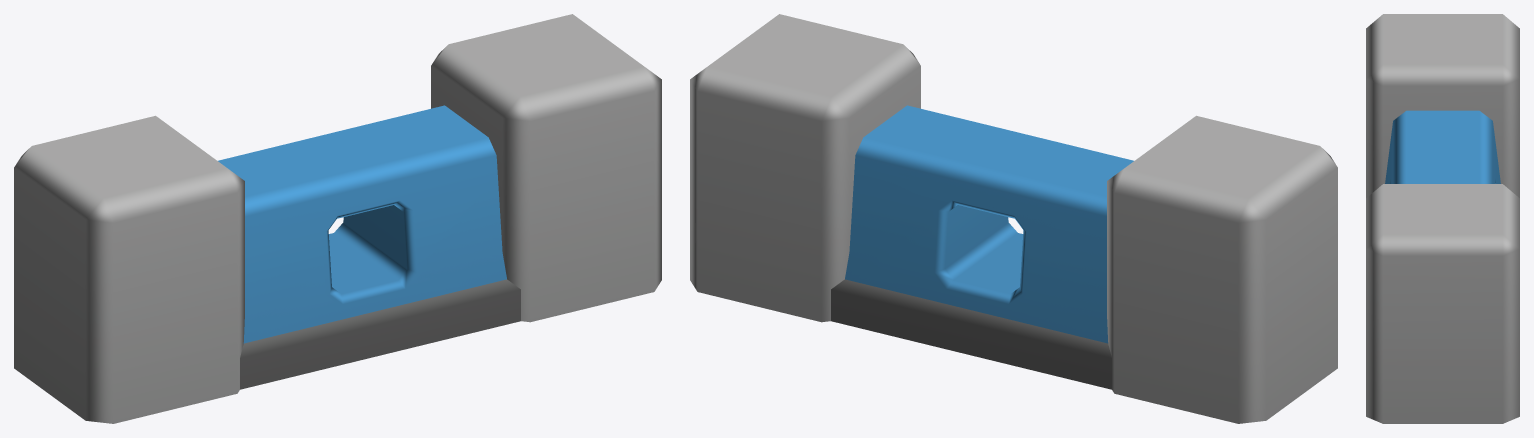
Rendered from Fence_Prop_Purple.fbx.
3 renders of one model, left to right at view 1: azimuth 30°, elevation 25°; view 2: azimuth 150°, elevation 25°; view 3: azimuth 270°, elevation 25°, orthographic. The views are drawn at different scales.
Visible parts, largest first — view 1: Fence_Prop, FencePost_Prop, FenceSeg_Prop; view 2: Fence_Prop, FenceSeg_Prop, FencePost_Prop; view 3: FencePost_Prop, Fence_Prop, FenceSeg_Prop.
Part boxes in pixels (x1,y1,x2,y2): Fence_Prop: [14, 115, 506, 423]; FencePost_Prop: [431, 14, 661, 322]; FenceSeg_Prop: [218, 105, 520, 389]; Fence_Prop: [845, 115, 1337, 423]; FenceSeg_Prop: [831, 105, 1133, 389]; FencePost_Prop: [690, 14, 920, 322]; FencePost_Prop: [1366, 184, 1519, 423]; Fence_Prop: [1366, 14, 1519, 197]; FenceSeg_Prop: [1385, 110, 1500, 183].
Size of what is drawn, in the model's own units: 138 by 50.01 by 38.22.
